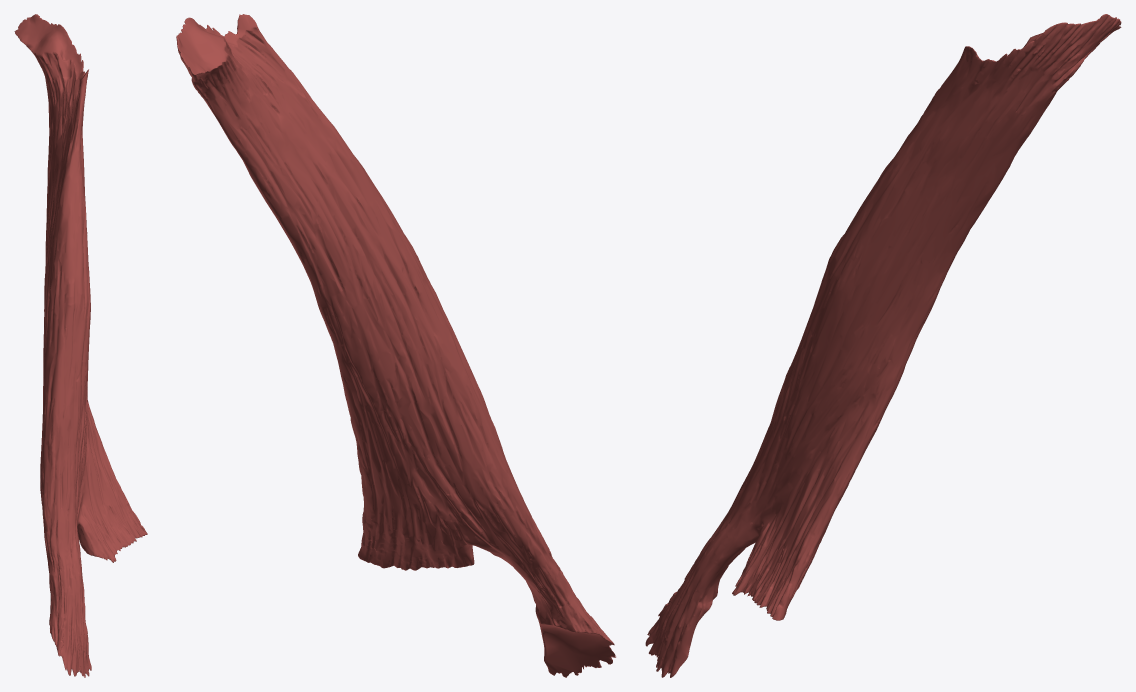
The model's file is FMA13409.glb.
3 renders of one model, left to right at view 1: azimuth 30°, elevation 25°; view 2: azimuth 150°, elevation 25°; view 3: azimuth 270°, elevation 25°, orthographic. The views are drawn at different scales.
Parts seen in each view (by area): view 1: FMA13409; view 2: FMA13409; view 3: FMA13409.
Part boxes in pixels (x1,y1,x2,y2): FMA13409: [14, 14, 147, 677]; FMA13409: [176, 14, 615, 677]; FMA13409: [645, 14, 1121, 677].
Size of the model in its own units: 0.0558 by 0.1875 by 0.1099.
